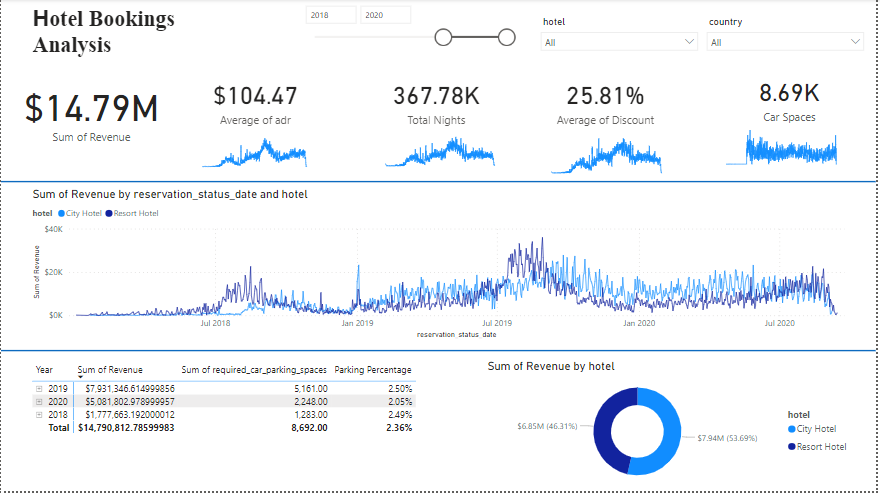

Layout of this report page (visuals, bound fields, positions):
{"tool":"powerbi","page":{"name":"Page 1","canvas":[1280,720],"ordinal":0},"visuals":[{"type":"shape","box":[0,499,1280,30.7],"z":0},{"type":"lineChart","fields":{"Category":["Query1.reservation_status_date"],"Y":["Sum(Query1.Revenue)"],"Series":["Query1.hotel"]},"box":[41,275.1,1210.2,226.8],"z":1000},{"type":"slicer","fields":{"Values":["Query1.country"]},"box":[1022.9,20.5,250.2,73.2],"z":2000},{"type":"card","fields":{"Values":["Sum(Query1.Revenue)"]},"box":[7.3,72.7,250.2,180],"z":3000},{"type":"slicer","fields":{"Values":["Query1.hotel"]},"box":[780,20.5,250.2,60],"z":4000},{"type":"card","fields":{"Values":["Avg(Query1.adr)"]},"box":[247.8,83,250.2,130.2],"z":5000,"group":"g2"},{"type":"donutChart","fields":{"Category":["Query1.hotel"],"Y":["Sum(Query1.Revenue)"]},"box":[706.8,526.8,544.4,193.2],"z":5000},{"type":"card","fields":{"Values":["Sum(Query1.required_car_parking_spaces)"]},"box":[1029.2,78.6,250.2,130.2],"z":6000,"group":"g3"},{"type":"card","fields":{"Values":["Query1.Total Nights"]},"box":[512.7,83,250.2,130.2],"z":6000,"group":"g1"},{"type":"pivotTable","fields":{"Rows":["Query1.reservation_status_date.Variation.Date Hierarchy.Year","Query1.hotel"],"Values":["Sum(Query1.Revenue)","Sum(Query1.required_car_parking_spaces)","Query1.Parking Percentage"]},"box":[41,526.8,665.9,193.2],"z":6000},{"type":"slicer","fields":{"Values":["Query1.reservation_status_date.Variation.Date Hierarchy.Year"]},"box":[433.2,0,327.8,84.9],"z":7000},{"type":"card","fields":{"Values":["Avg(Query1.Discount)"]},"box":[760,83,250.2,130.2],"z":7000,"group":"g4"},{"type":"group","id":"g1","title":"Group 2","box":[512.7,83,250.2,166.8],"z":8000},{"type":"group","id":"g2","title":"Group 3","box":[247.8,83,250.2,168.3],"z":9000},{"type":"lineChart","fields":{"Category":["Query1.reservation_status_date"],"Y":["Sum(Query1.adr)"]},"box":[280,184,182.9,67.3],"z":9000,"group":"g2"},{"type":"group","id":"g3","title":"Group 1","box":[1029.2,78.6,250.2,168.3],"z":10000},{"type":"lineChart","fields":{"Category":["Query1.reservation_status_date"],"Y":["Query1.Total Nights"]},"box":[547.8,175.2,190.2,74.6],"z":10000,"group":"g1"},{"type":"group","id":"g4","title":"Group 4","box":[760,83,250.2,177.1],"z":11000},{"type":"lineChart","fields":{"Category":["Query1.reservation_status_date"],"Y":["Sum(Query1.Discount)"]},"box":[790.7,185.4,191.7,74.6],"z":12000,"group":"g4"},{"type":"shape","box":[0,251.7,1280,30.7],"z":12000},{"type":"textbox","box":[41,0,392.2,111.2],"z":13000},{"type":"lineChart","fields":{"Category":["Query1.reservation_status_date"],"Y":["Avg(Query1.required_car_parking_spaces)"]},"box":[1046.8,172.3,191.7,74.6],"z":13000,"group":"g3"}]}

Visuals, with their boxes in screenshot pixels (x1, y1, x2, y2), scaled from the page's 1280x720 canvas onto the 880x494 screenshot:
shape: [0,342,879,363]
lineChart - Query1.reservation_status_date x Sum(Query1.Revenue): [28,189,860,344]
slicer - Query1.country: [703,14,875,64]
card - Sum(Query1.Revenue): [5,50,177,173]
slicer - Query1.hotel: [536,14,708,55]
card - Avg(Query1.adr): [170,57,342,146]
donutChart - Query1.hotel x Sum(Query1.Revenue): [486,361,860,493]
card - Sum(Query1.required_car_parking_spaces): [708,54,879,143]
card - Query1.Total Nights: [352,57,524,146]
pivotTable - Query1.reservation_status_date.Variation.Date Hierarchy.Year x Query1.hotel: [28,361,486,493]
slicer - Query1.reservation_status_date.Variation.Date Hierarchy.Year: [298,0,523,58]
card - Avg(Query1.Discount): [522,57,695,146]
"Group 2" group: [352,57,524,171]
"Group 3" group: [170,57,342,172]
lineChart - Query1.reservation_status_date x Sum(Query1.adr): [192,126,318,172]
"Group 1" group: [708,54,879,169]
lineChart - Query1.reservation_status_date x Query1.Total Nights: [377,120,507,171]
"Group 4" group: [522,57,695,178]
lineChart - Query1.reservation_status_date x Sum(Query1.Discount): [544,127,675,178]
shape: [0,173,879,194]
textbox: [28,0,298,76]
lineChart - Query1.reservation_status_date x Avg(Query1.required_car_parking_spaces): [720,118,851,169]
